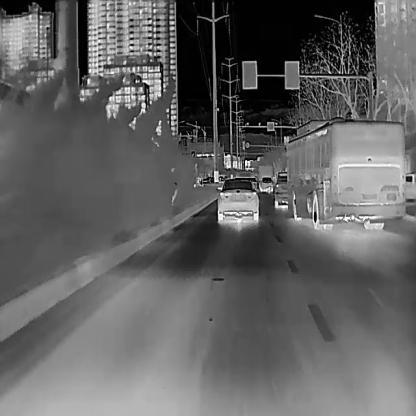car: (285, 114, 404, 230), (215, 177, 259, 221), (273, 171, 288, 206), (235, 170, 257, 188), (405, 172, 416, 199), (259, 176, 274, 190), (257, 164, 273, 177)
